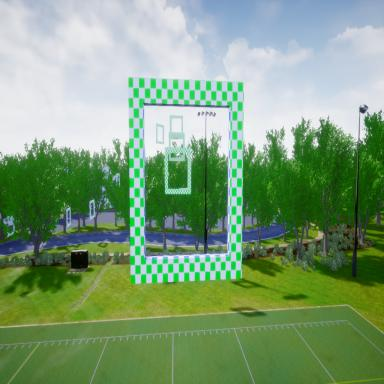gate: (127, 74, 243, 281), (164, 147, 192, 196), (168, 131, 186, 162), (170, 114, 183, 139)
